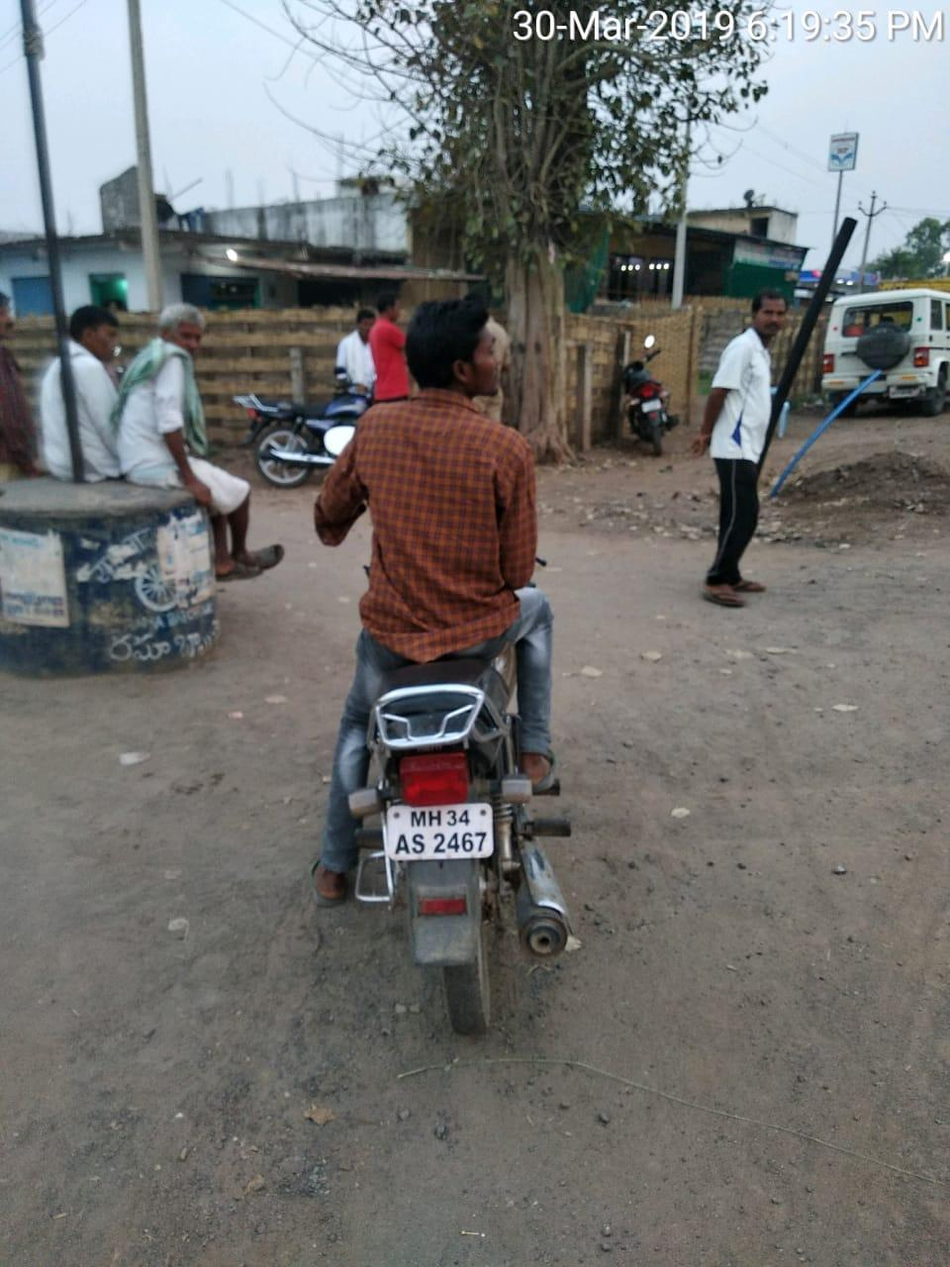plate: (372, 784, 506, 881)
